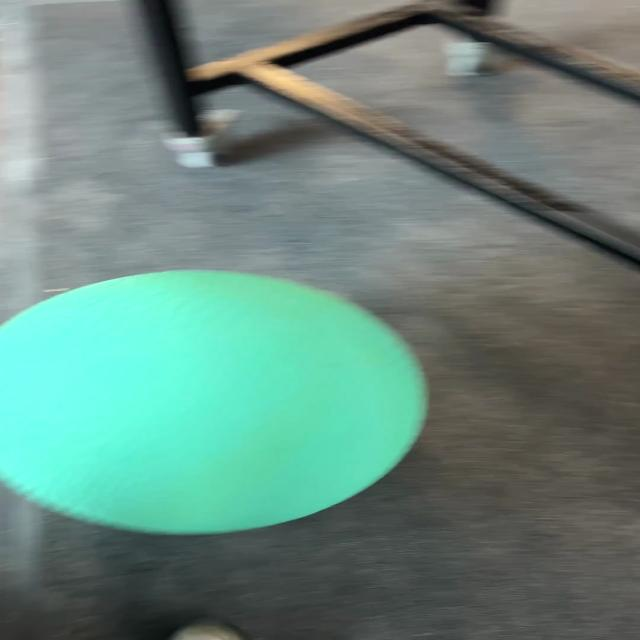Algae: (1, 268, 430, 536)
